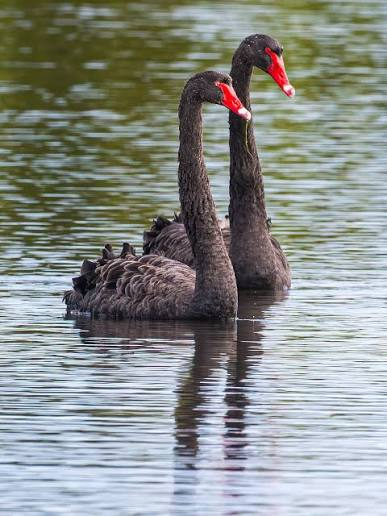black_swan: (63, 72, 251, 320), (142, 31, 295, 285)
